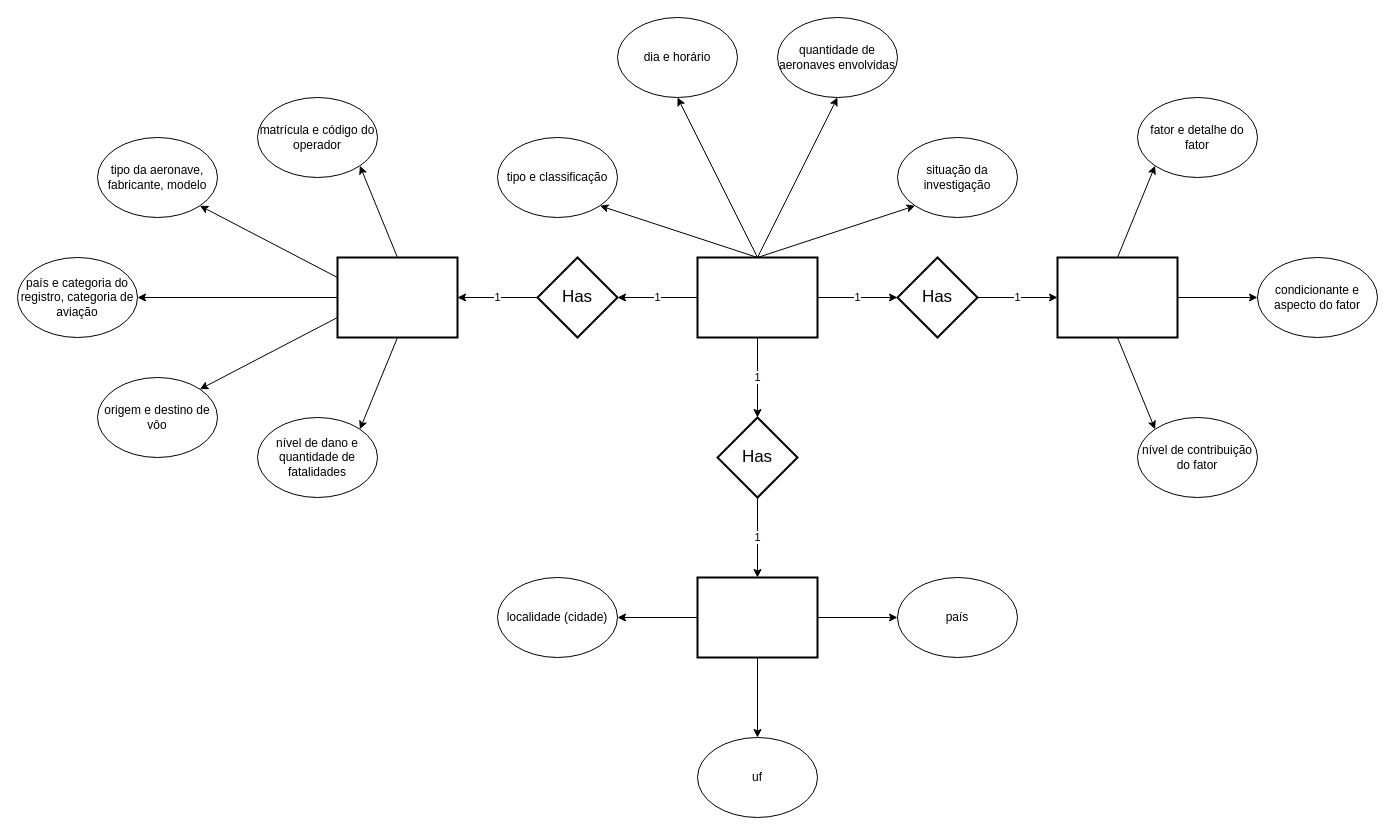
Some shapes in this 1395 by 835 pixel diagram are drawn without their labels. The shapes that lost their labels are listed below. From the top down, each one's centre as x and y in pixels, then its label:
point (397, 297): Aeronave
point (757, 297): Ocorrencia
point (1117, 297): Fator Contribuinte
point (757, 617): Localização
